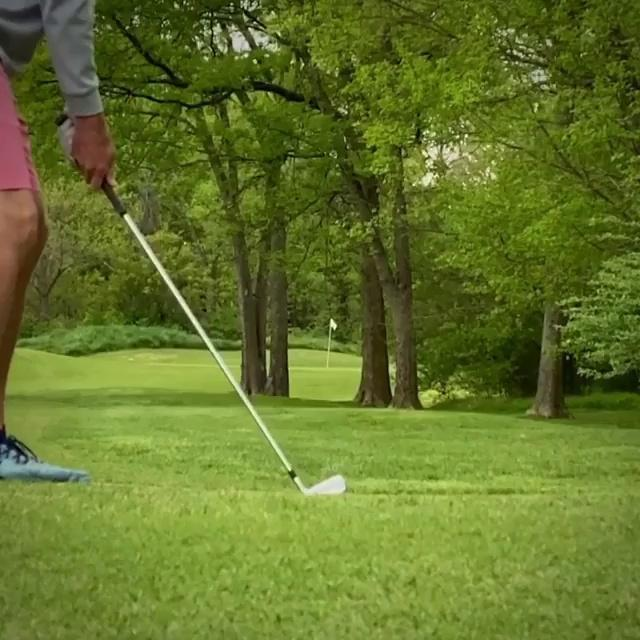golf club-handle: (53, 113, 352, 501)
golf club-head: (307, 473, 347, 497)
